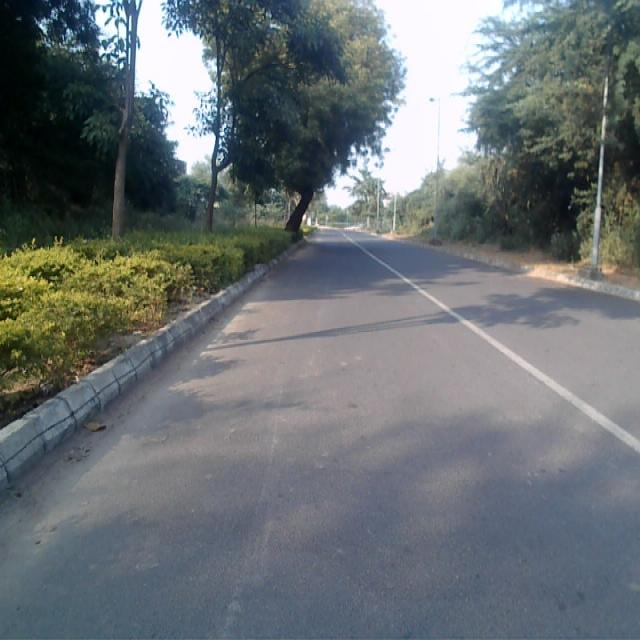lane: (0, 231, 640, 640)
